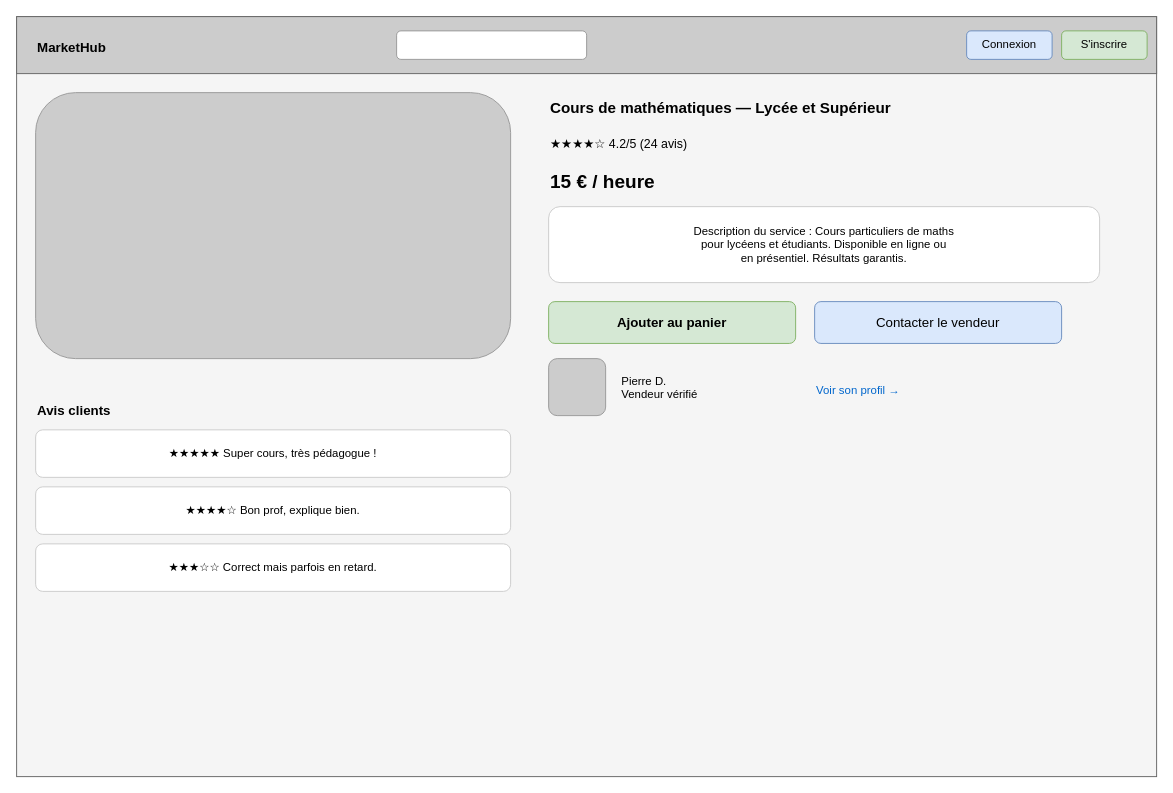
Image size: 1173x793. Some labels were removed from this diagram. The shapes that lost their labels are listed below. From the top down, each one's centre as x and y in pixels, then its label:
At [491,44]: "[ Rechercher... ]".
At [273,225]: "[Image du service]".
